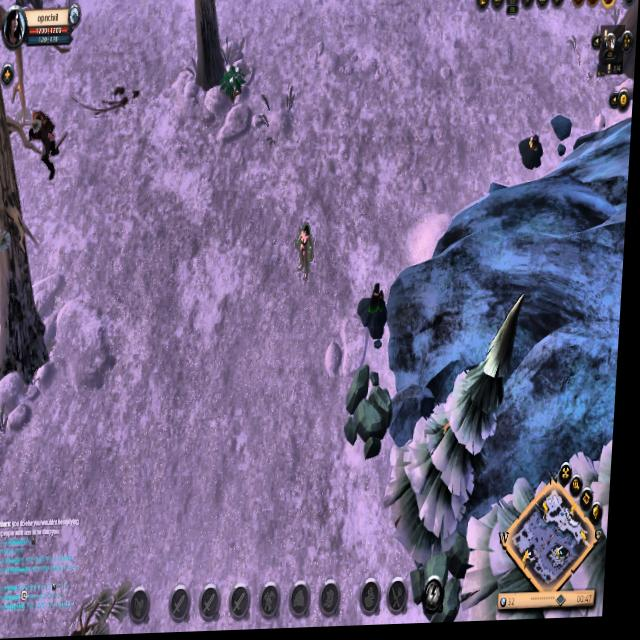copper_ore: (519, 136, 551, 175)
flax: (219, 61, 249, 107)
mob: (24, 108, 72, 184)
sandstone: (346, 367, 403, 466)
tin_ore: (357, 286, 397, 341)
